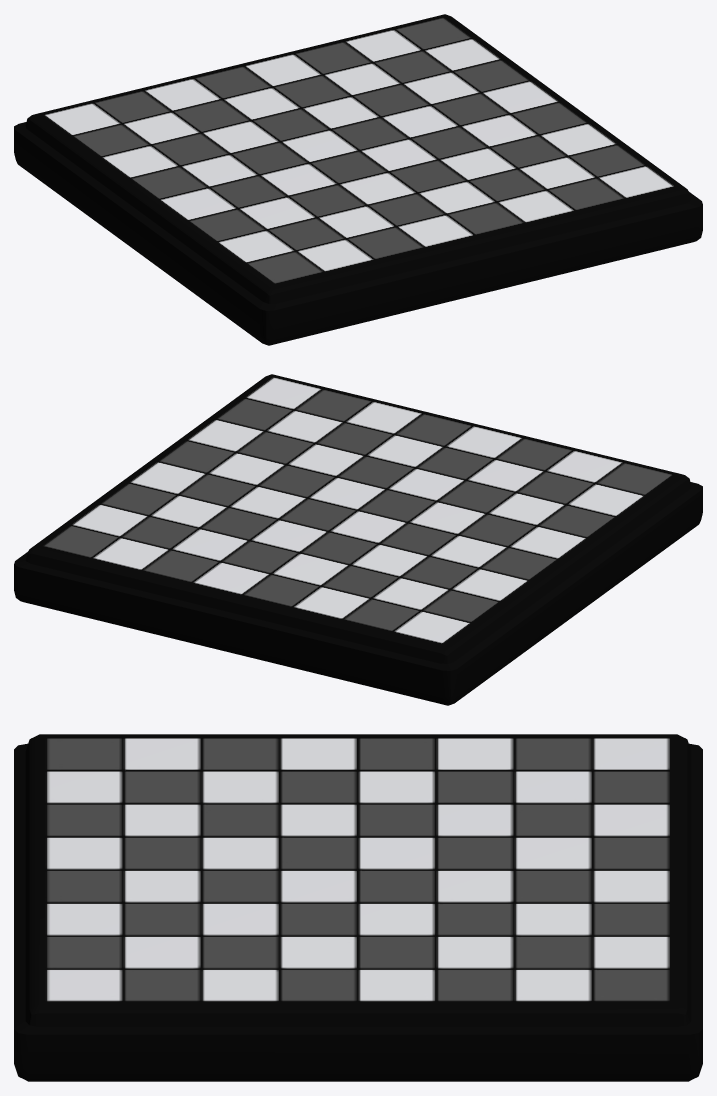
Rendered from chess.fbx.
3 renders of one model, top to bottom at view 1: azimuth 30°, elevation 25°; view 2: azimuth 150°, elevation 25°; view 3: azimuth 270°, elevation 25°, orthographic. The views are drawn at different scales.
Parts seen in each view (by area): view 1: chess; view 2: chess; view 3: chess.
Boxes of the visible parts, x1,y1,x2,y2 form: chess: [14, 14, 702, 345]; chess: [14, 374, 702, 705]; chess: [14, 734, 702, 1081].
Bounding box in the file's own units: 1.03 × 0.1202 × 1.03.
Materials: 1 (1 with a texture image).
